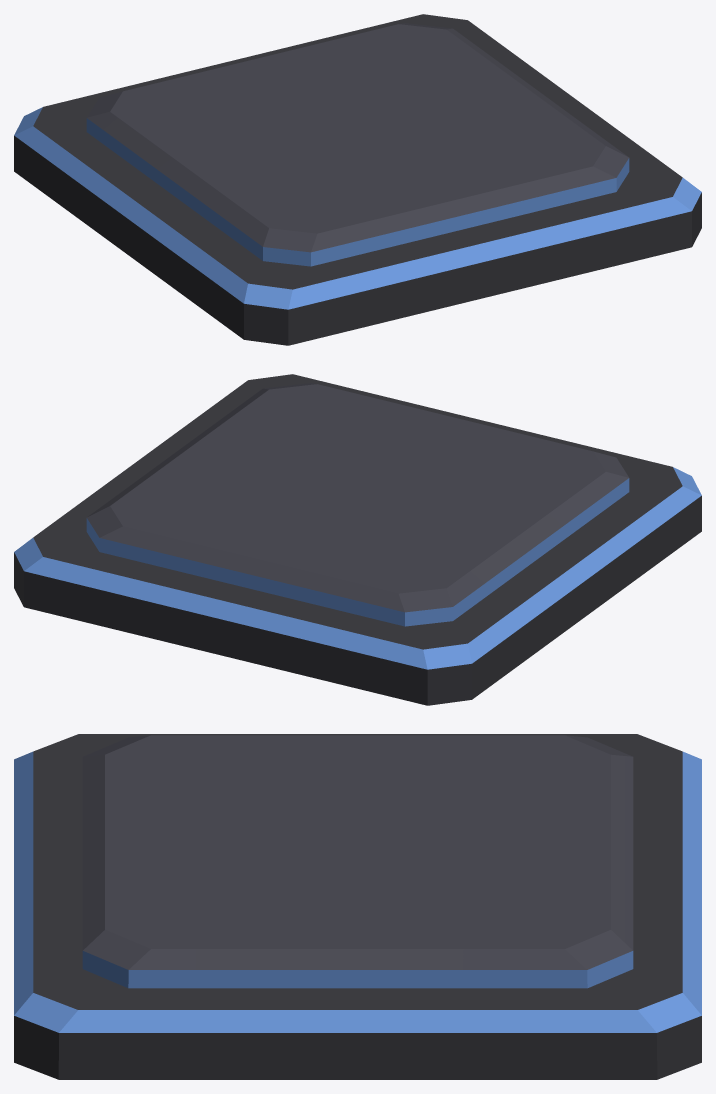
File: BottonDePresion.glb
3 views of the same model, one above another, from view 1: azimuth 30°, elevation 25°; view 2: azimuth 150°, elevation 25°; view 3: azimuth 270°, elevation 25° (orthographic). The views are drawn at different scales.
Visible parts, largest first — view 1: Cube.001, Cube; view 2: Cube.001, Cube; view 3: Cube.001, Cube.
Boxes of the visible parts, <box> form: Cube.001: <box>86,23,629,266</box>; Cube: <box>14,14,701,345</box>; Cube.001: <box>86,383,629,626</box>; Cube: <box>14,374,701,705</box>; Cube.001: <box>82,735,633,988</box>; Cube: <box>14,734,701,1079</box>.
Bounding box in the file's own units: 1 × 0.148 × 1.
Materials: 1 (1 with a texture image).
